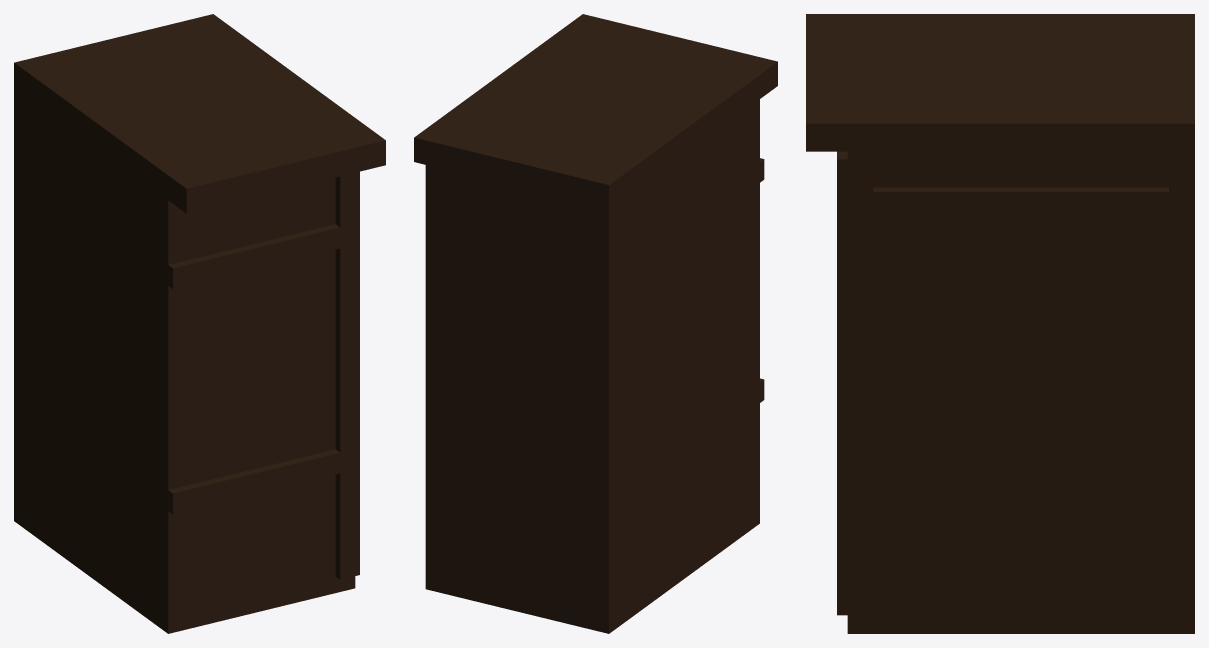
Rendered from counter-end.glb.
3 views of the same model, side by side, from view 1: azimuth 30°, elevation 25°; view 2: azimuth 150°, elevation 25°; view 3: azimuth 270°, elevation 25° (orthographic). The views are drawn at different scales.
Parts seen in each view (by area): view 1: counterEnd; view 2: counterEnd; view 3: counterEnd.
Part boxes in pixels (x1=…): counterEnd: x1=14, y1=14, x2=385, y2=633; counterEnd: x1=414, y1=14, x2=777, y2=633; counterEnd: x1=806, y1=14, x2=1194, y2=633.
Bounding box in the file's own units: 0.5 × 1.1 × 0.75.
